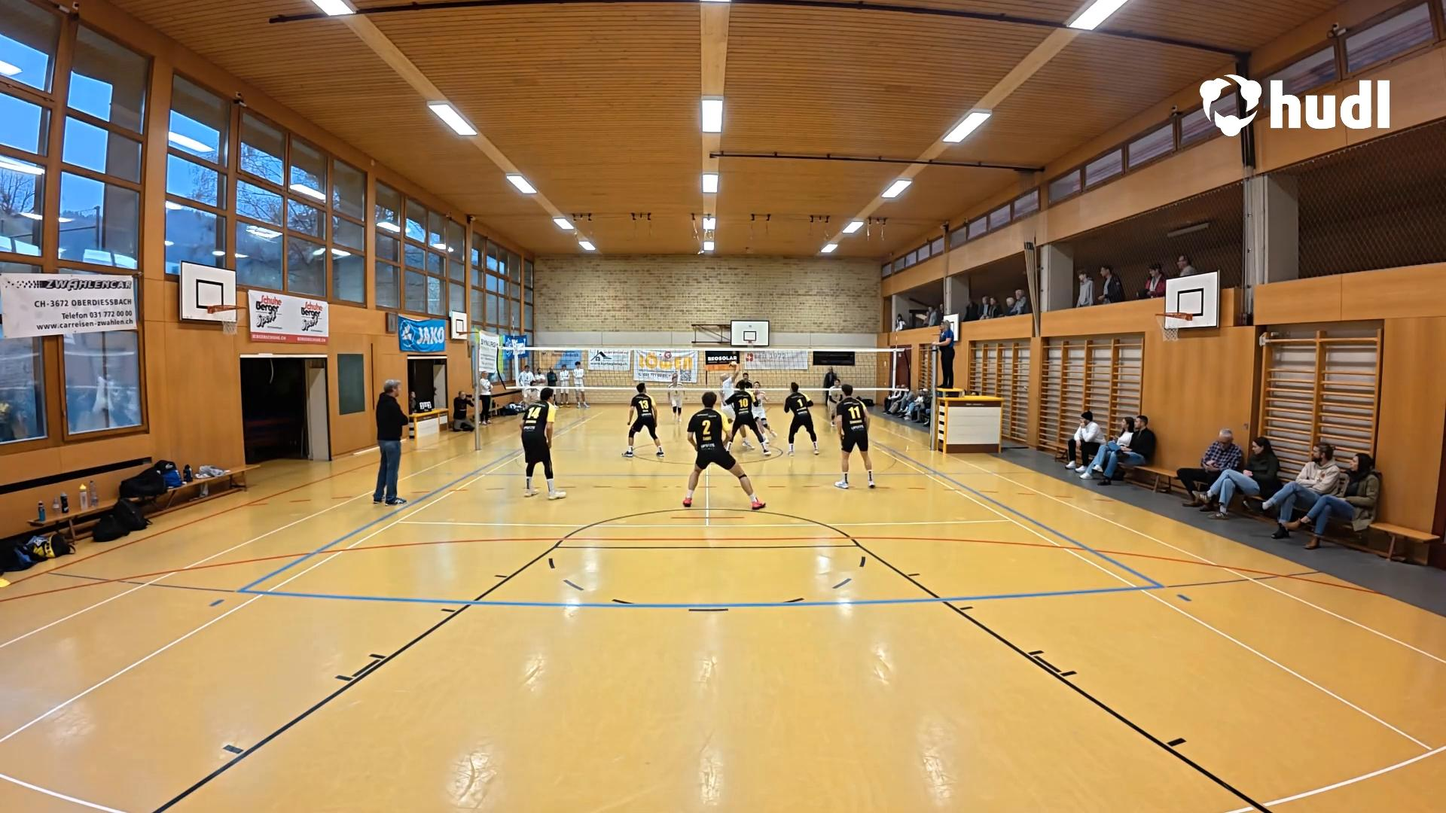alzata: (717, 353, 741, 437)
